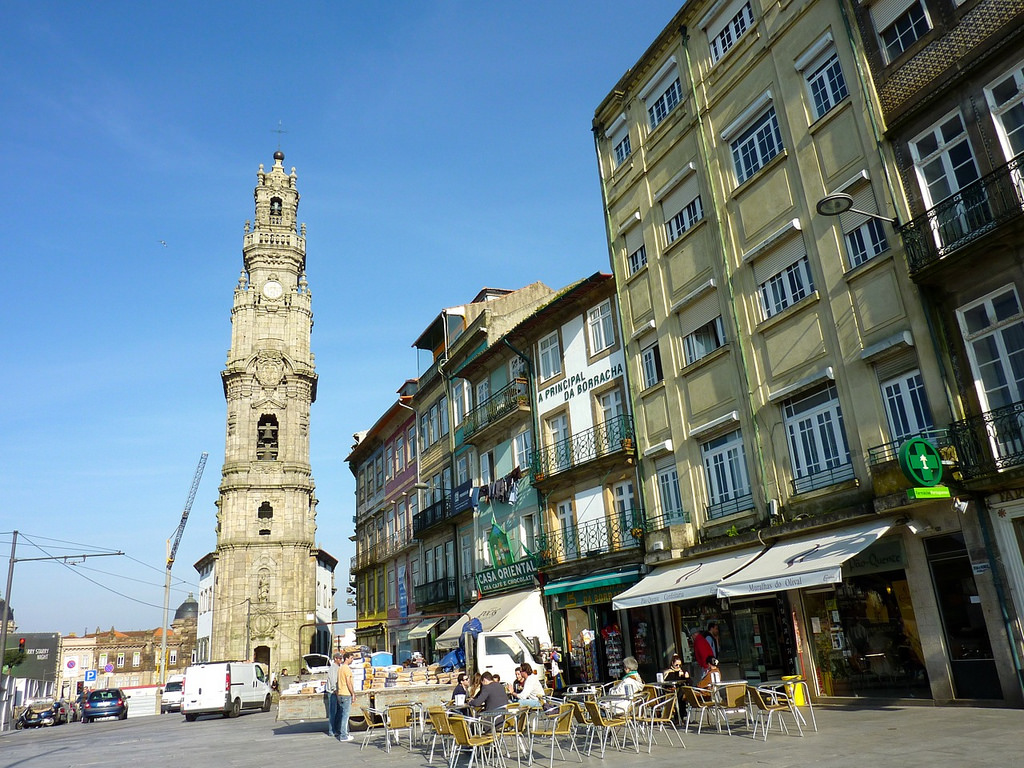clerigos: (211, 120, 319, 676)
